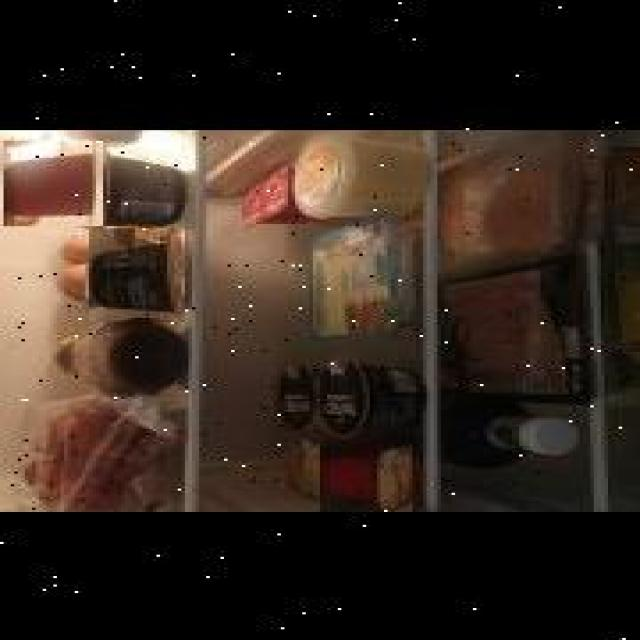yogurt: (89, 225, 185, 319), (4, 138, 103, 223), (320, 444, 412, 510)
